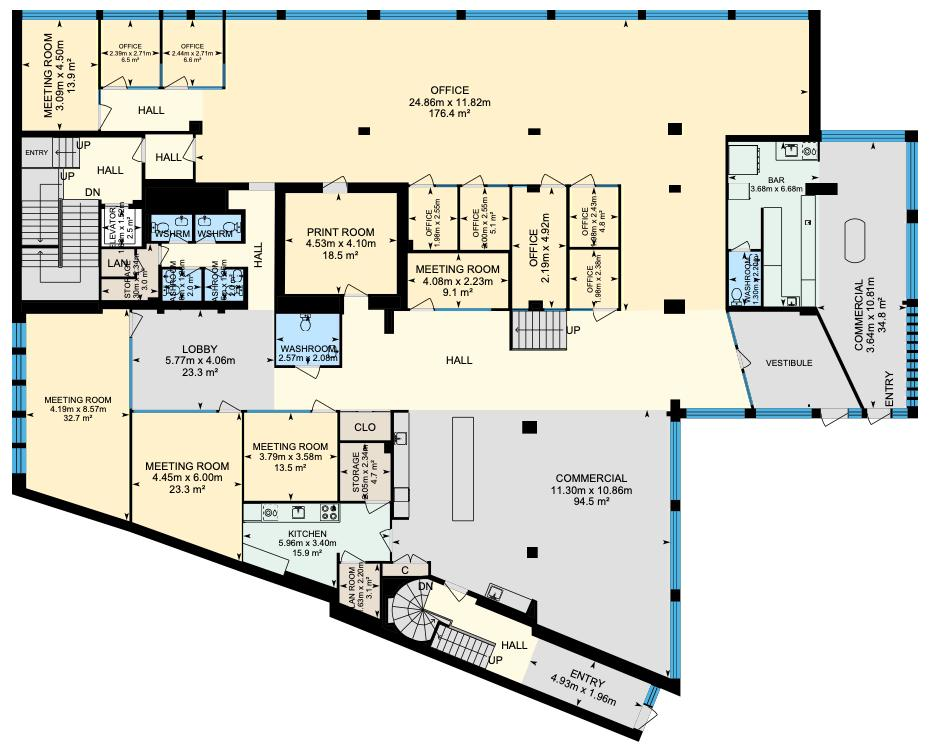room: (21, 307, 131, 520), (131, 411, 243, 562), (283, 190, 399, 301), (726, 308, 818, 411), (19, 17, 99, 133), (243, 411, 338, 502), (511, 186, 568, 309), (406, 251, 511, 310), (161, 18, 224, 88), (100, 18, 162, 88), (78, 138, 144, 201), (275, 312, 340, 366), (406, 186, 459, 252), (458, 186, 511, 251), (339, 441, 392, 502), (568, 186, 620, 248), (568, 248, 619, 310), (145, 135, 195, 182), (339, 411, 392, 441)
